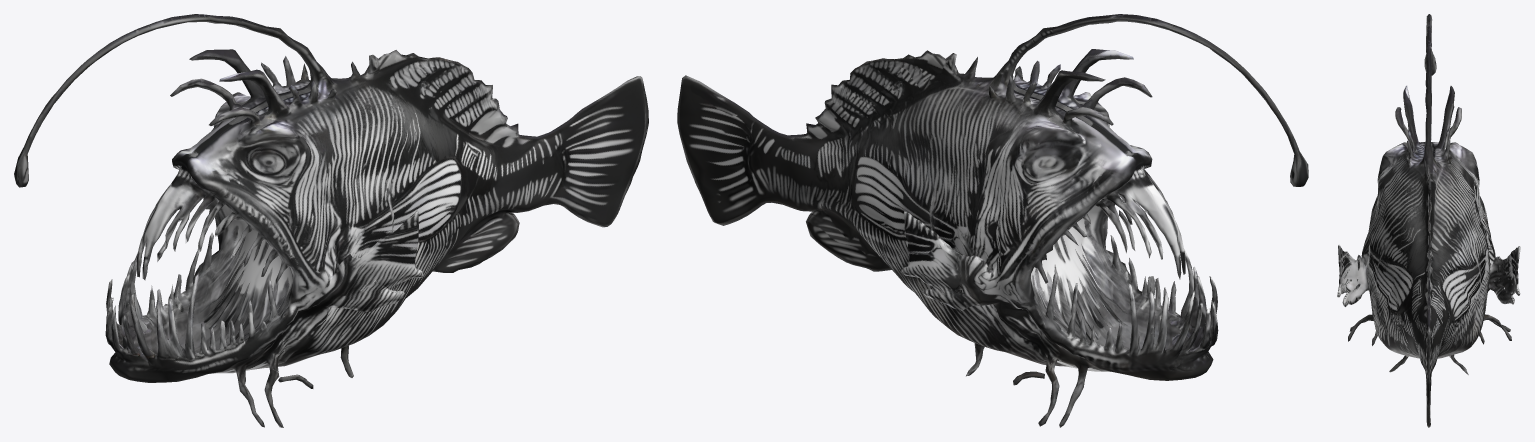
Rendered from Deep_Sea_Predator_0903045246_texture.fbx.
3 views of the same model, side by side, from view 1: azimuth 30°, elevation 25°; view 2: azimuth 150°, elevation 25°; view 3: azimuth 270°, elevation 25° (orthographic). The views are drawn at different scales.
Visible parts, largest first — view 1: Mesh1.0; view 2: Mesh1.0; view 3: Mesh1.0.
Part boxes in pixels (x1,y1,x2,y2): Mesh1.0: [14, 14, 648, 427]; Mesh1.0: [677, 14, 1308, 427]; Mesh1.0: [1337, 14, 1520, 427].
Size of the model in its own units: 200 by 116 by 66.27.
1 material, 1 textured.
